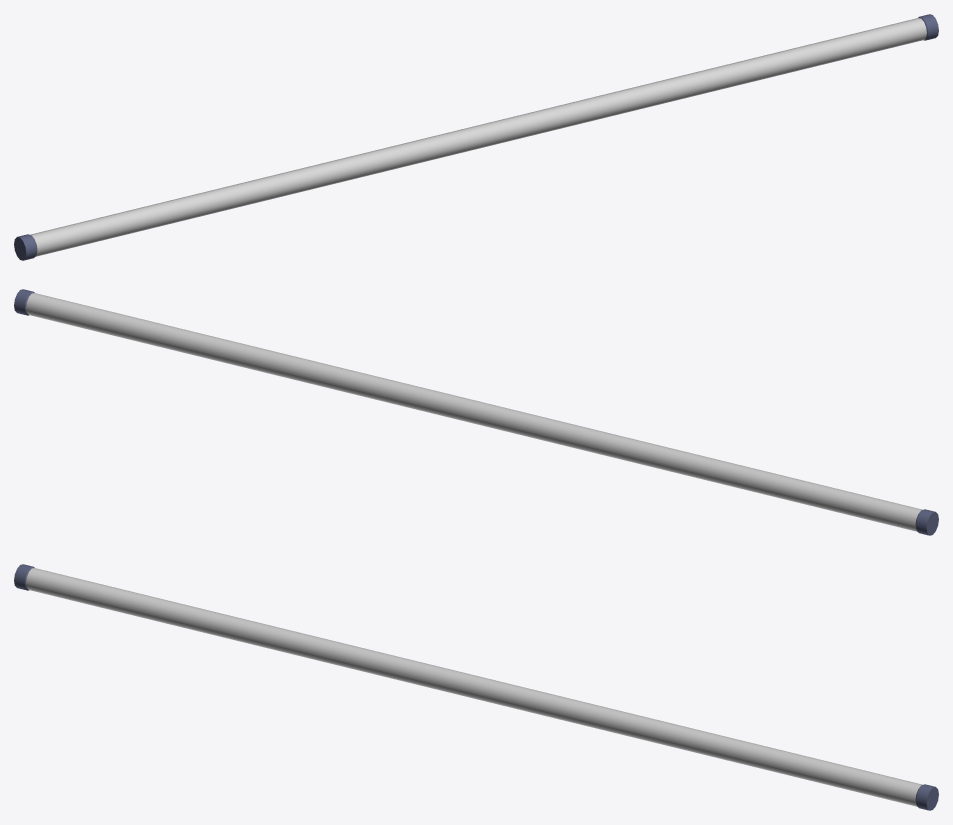
Rendered from zarivka_trubice.fbx.
3 views of the same model, one above another, from view 1: azimuth 30°, elevation 25°; view 2: azimuth 150°, elevation 25°; view 3: azimuth 330°, elevation 25° (orthographic).
Parts seen in each view (by area): view 1: zarivka_trubice; view 2: zarivka_trubice; view 3: zarivka_trubice.
Part boxes in pixels (box(x1,y1,x2,y2)): zarivka_trubice: box(14, 14, 938, 260); zarivka_trubice: box(14, 289, 938, 535); zarivka_trubice: box(14, 564, 938, 810).
Size of the model in its own units: 114 by 2.68 by 2.68.
